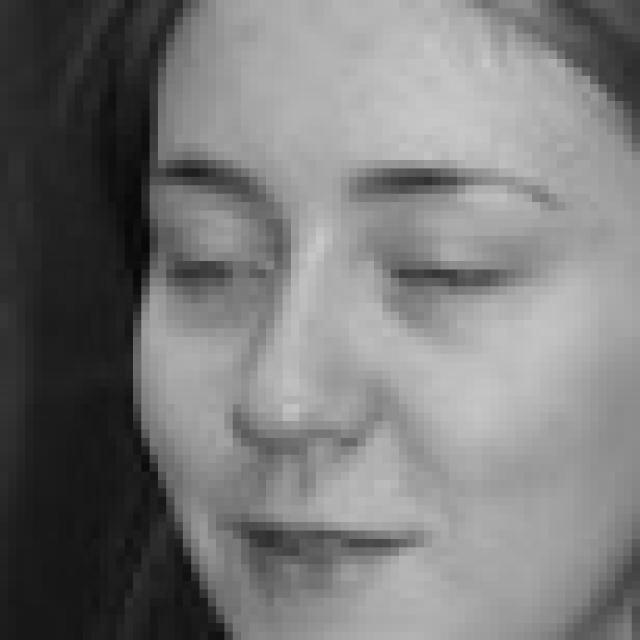real: (138, 10, 634, 625), (160, 204, 538, 338)
